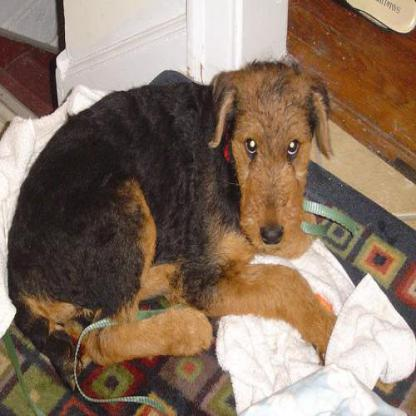dog: (21, 50, 353, 394)
